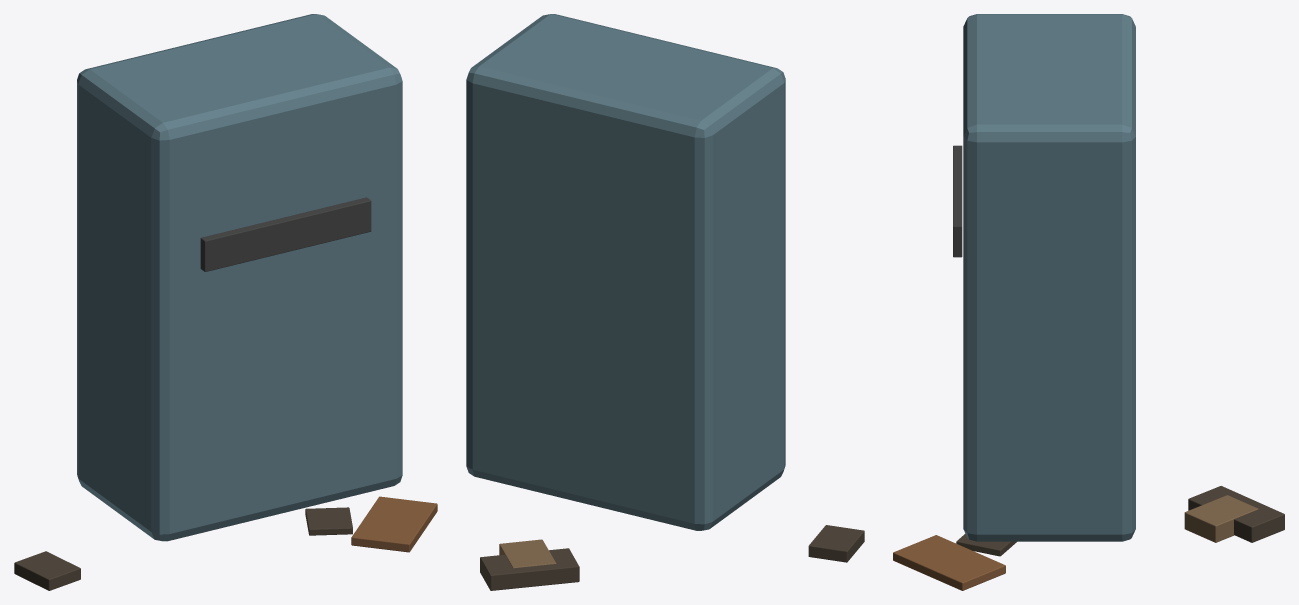
The model's file is dz_urban_mailbox_graffiti_premium.glb.
3 renders of one model, left to right at view 1: azimuth 30°, elevation 25°; view 2: azimuth 150°, elevation 25°; view 3: azimuth 270°, elevation 25°, orthographic. The views are drawn at different scales.
Visible parts, largest first — view 1: postal_box_body_graffiti, mail_slot_dark, mailbox_debris_01, mailbox_debris_02, mailbox_debris_04; view 2: postal_box_body_graffiti, mailbox_debris_03, mailbox_debris_02, mailbox_debris_00; view 3: postal_box_body_graffiti, mailbox_debris_01, mailbox_debris_03, mailbox_debris_00, mail_slot_dark, mailbox_debris_04.
Boxes of the visible parts, x1=… form: postal_box_body_graffiti: x1=77, y1=14, x2=402, y2=541; mail_slot_dark: x1=200, y1=197, x2=371, y2=271; mailbox_debris_01: x1=351, y1=496, x2=437, y2=552; mailbox_debris_02: x1=14, y1=551, x2=80, y2=590; mailbox_debris_04: x1=305, y1=507, x2=352, y2=535; postal_box_body_graffiti: x1=466, y1=14, x2=785, y2=530; mailbox_debris_03: x1=480, y1=548, x2=579, y2=590; mailbox_debris_02: x1=808, y1=525, x2=864, y2=562; mailbox_debris_00: x1=499, y1=539, x2=556, y2=568; postal_box_body_graffiti: x1=963, y1=14, x2=1135, y2=541; mailbox_debris_01: x1=893, y1=535, x2=1005, y2=590; mailbox_debris_03: x1=1188, y1=486, x2=1284, y2=542; mailbox_debris_00: x1=1184, y1=495, x2=1258, y2=542; mail_slot_dark: x1=953, y1=145, x2=962, y2=257; mailbox_debris_04: x1=956, y1=533, x2=1016, y2=556.
Size of the model in its own units: 1.14 by 1.3 by 1.02.
